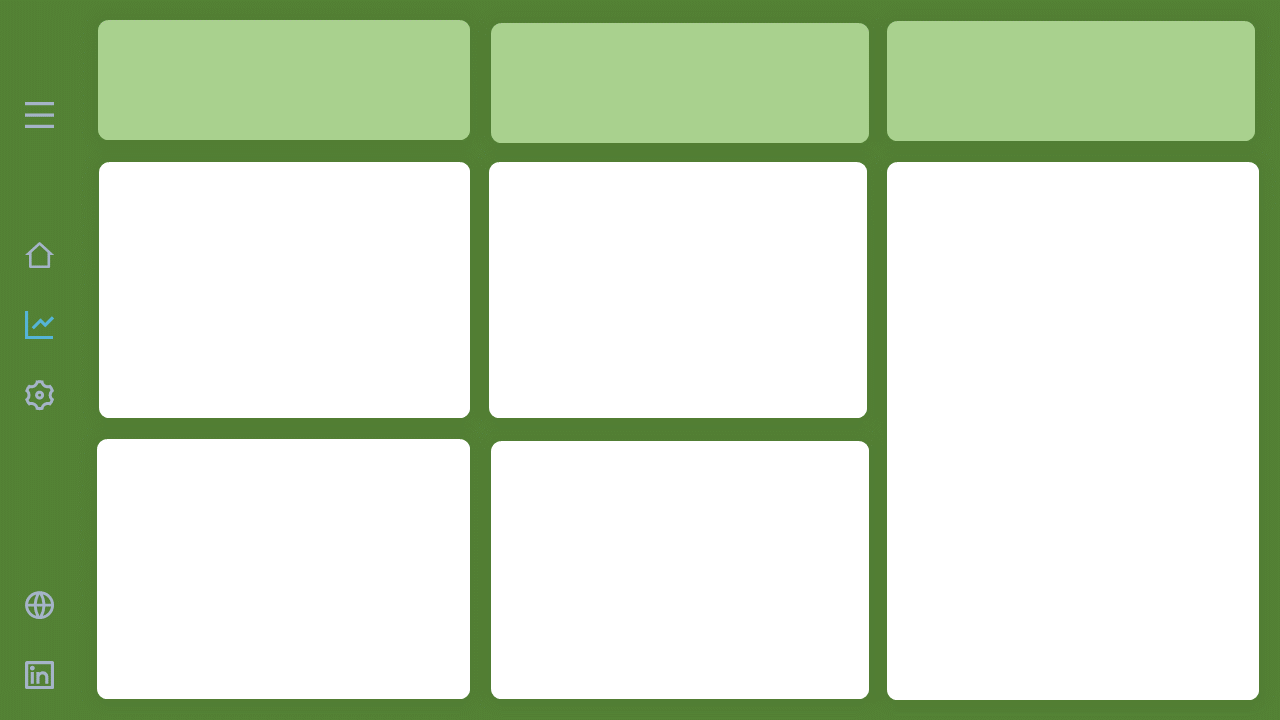

The dashboard page shown, as its layout file describes it:
{"tool":"powerbi","page":{"name":"Página 1","canvas":[1280,720],"ordinal":0},"visuals":[{"type":"cardVisual","title":"Maior valor produzido","fields":{"Data":["Min(Culturas.municipio)"]},"box":[30.2,90.7,373,125.3],"z":6000},{"type":"cardVisual","title":"Maior quantidade produzida","fields":{"Data":["Min(Culturas.municipio)"]},"box":[450.7,95,374.4,121],"z":7000},{"type":"cardVisual","title":"Maior cultura produzida (valor)","fields":{"Data":["Min(Culturas.produto)"]},"box":[871.2,90.7,377.3,125.3],"z":8000}]}

Visuals, with their boxes on the page's 1280x720 design canvas (x1, y1, x2, y2). These are canvas units, not pixel positions in the 1280x720 screenshot, which may show the page scaled, cropped or inside an application window:
"Maior valor produzido" cardVisual: 30, 91, 403, 216
"Maior quantidade produzida" cardVisual: 451, 95, 825, 216
"Maior cultura produzida (valor)" cardVisual: 871, 91, 1248, 216
